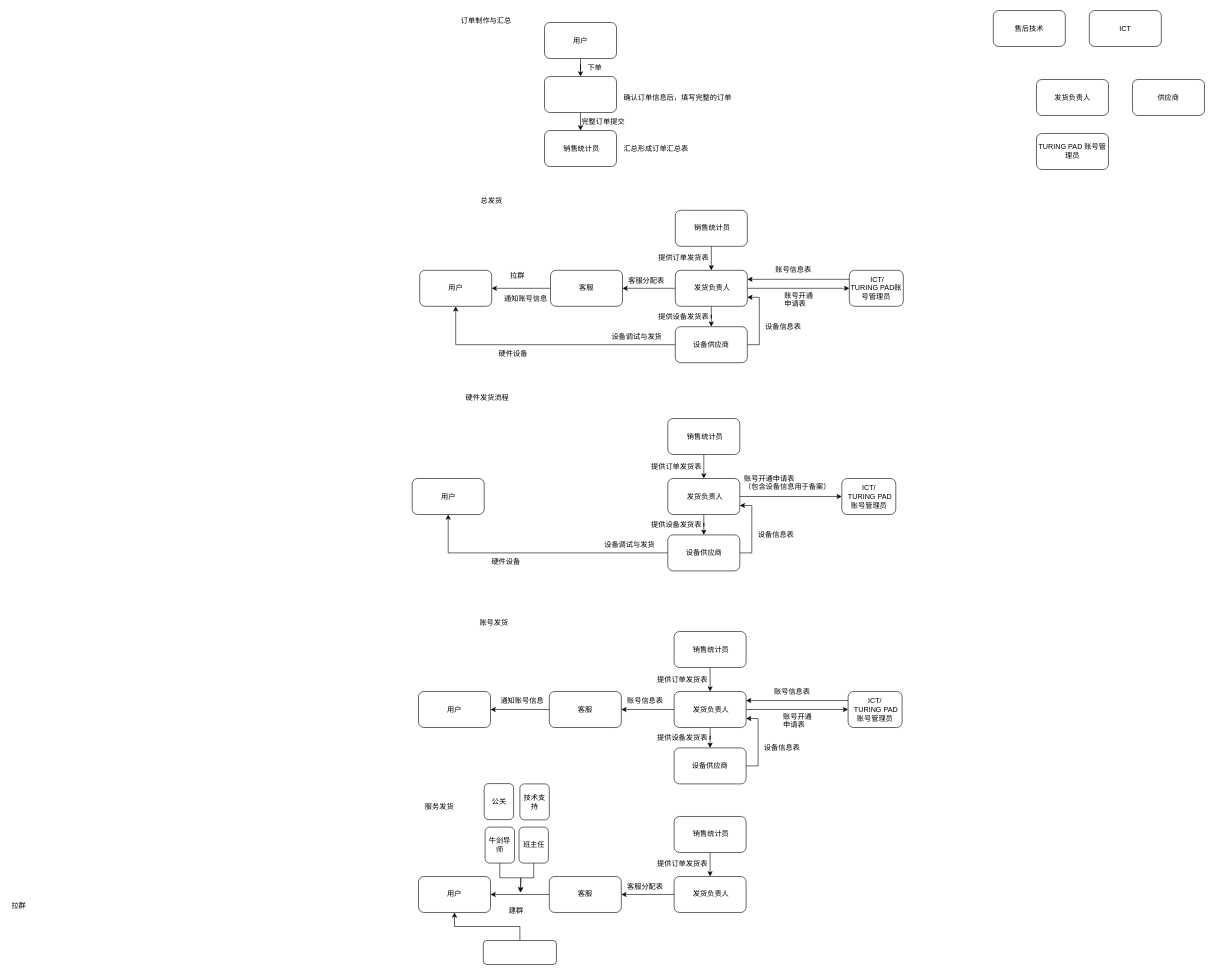
Image size: 1215x975. Some labels were removed from this diagram. The shapes that lost their labels are listed below. From the top down, each one's box as (x1, y1, x2, y2) in pixels, then its label:
(544, 76, 616, 112): 销售
(483, 940, 556, 964): 家长/学生
